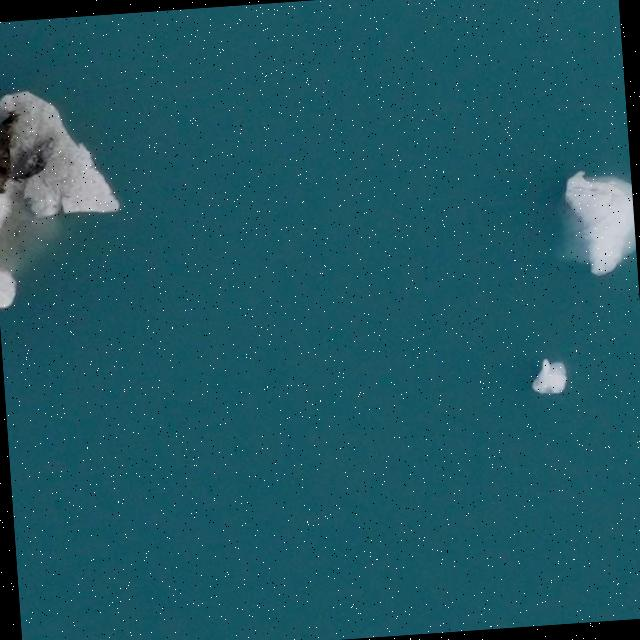seal: (4, 133, 66, 186), (0, 113, 19, 191)
